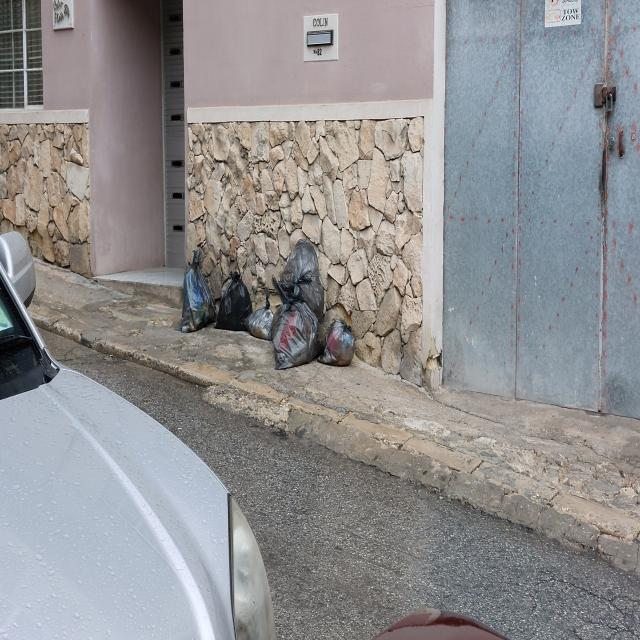Mixed Waste -Black Bag-: (271, 275, 323, 375), (278, 239, 330, 316), (179, 247, 217, 335), (217, 269, 253, 333), (320, 317, 360, 371), (245, 291, 274, 344)
